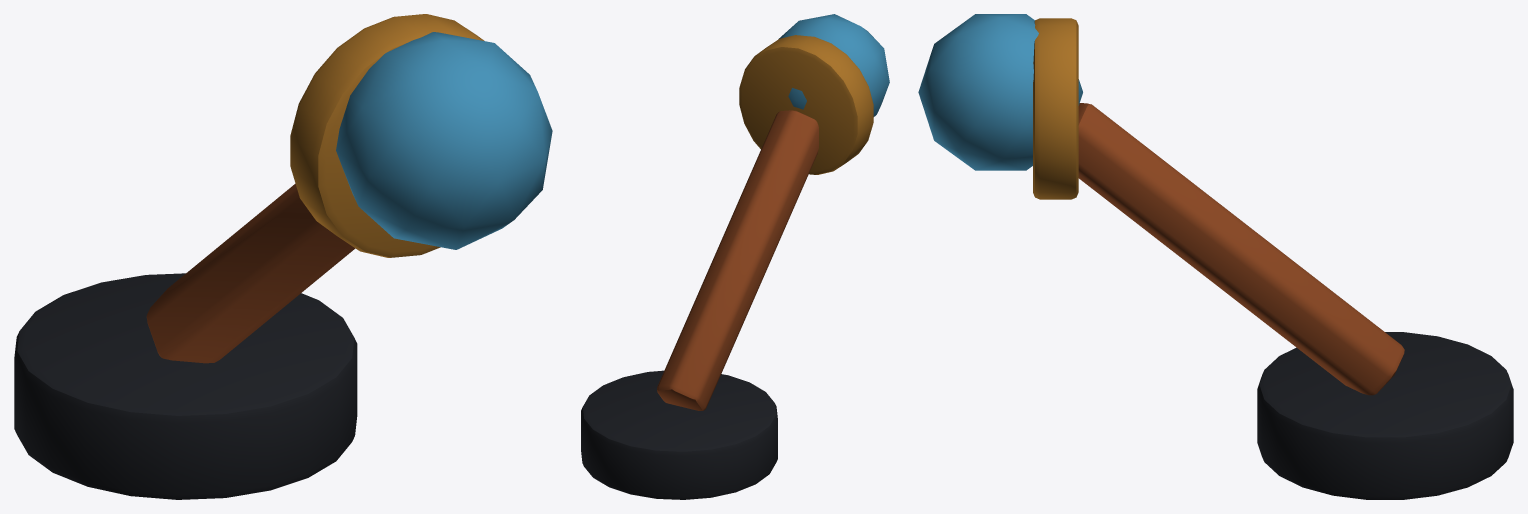
Rendered from BubbleArm.obj.
3 views of the same model, side by side, from view 1: azimuth 30°, elevation 25°; view 2: azimuth 150°, elevation 25°; view 3: azimuth 270°, elevation 25° (orthographic). The views are drawn at different scales.
Visible parts, largest first — view 1: BubbleArm; view 2: BubbleArm; view 3: BubbleArm.
Part boxes in pixels (x1=…): BubbleArm: x1=14, y1=14, x2=552, y2=499; BubbleArm: x1=581, y1=14, x2=889, y2=499; BubbleArm: x1=918, y1=14, x2=1513, y2=499.
Bounding box in the file's own units: 0.2772 × 0.52 × 0.65.
